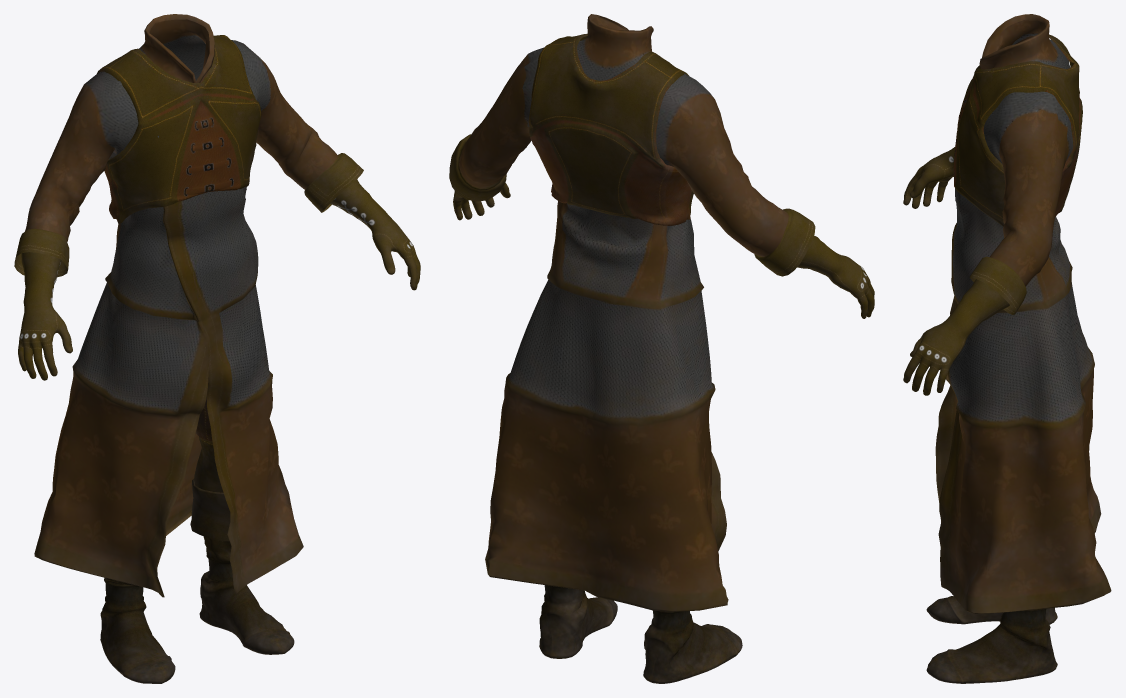
Rendered from free_knight_armor_2k.glb.
3 renders of one model, left to right at view 1: azimuth 30°, elevation 25°; view 2: azimuth 150°, elevation 25°; view 3: azimuth 270°, elevation 25°, orthographic. The views are drawn at different scales.
Parts seen in each view (by area): view 1: polySurface1, polySurface2, boots_retop:polySurface1, m_tal_nrw_body_lod1_mesh2, painta:polySurface1; view 2: polySurface1, polySurface2, boots_retop:polySurface1, m_tal_nrw_body_lod1_mesh2; view 3: polySurface1, polySurface2, m_tal_nrw_body_lod1_mesh2, boots_retop:polySurface1.
Boxes of the visible parts, bbox=[...] form: polySurface1: bbox=[25, 14, 373, 597]; polySurface2: bbox=[97, 35, 261, 223]; boots_retop:polySurface1: bbox=[100, 478, 294, 683]; m_tal_nrw_body_lod1_mesh2: bbox=[14, 153, 420, 380]; painta:polySurface1: bbox=[134, 337, 223, 492]; polySurface1: bbox=[459, 14, 788, 611]; polySurface2: bbox=[528, 33, 693, 225]; boots_retop:polySurface1: bbox=[539, 585, 742, 683]; m_tal_nrw_body_lod1_mesh2: bbox=[449, 134, 874, 318]; polySurface1: bbox=[935, 14, 1111, 613]; polySurface2: bbox=[953, 34, 1082, 226]; m_tal_nrw_body_lod1_mesh2: bbox=[903, 147, 1026, 395]; boots_retop:polySurface1: bbox=[926, 596, 1057, 683].
Size of the model in its own units: 111 by 164 by 49.81.
Materials: 1 (1 with a texture image).
